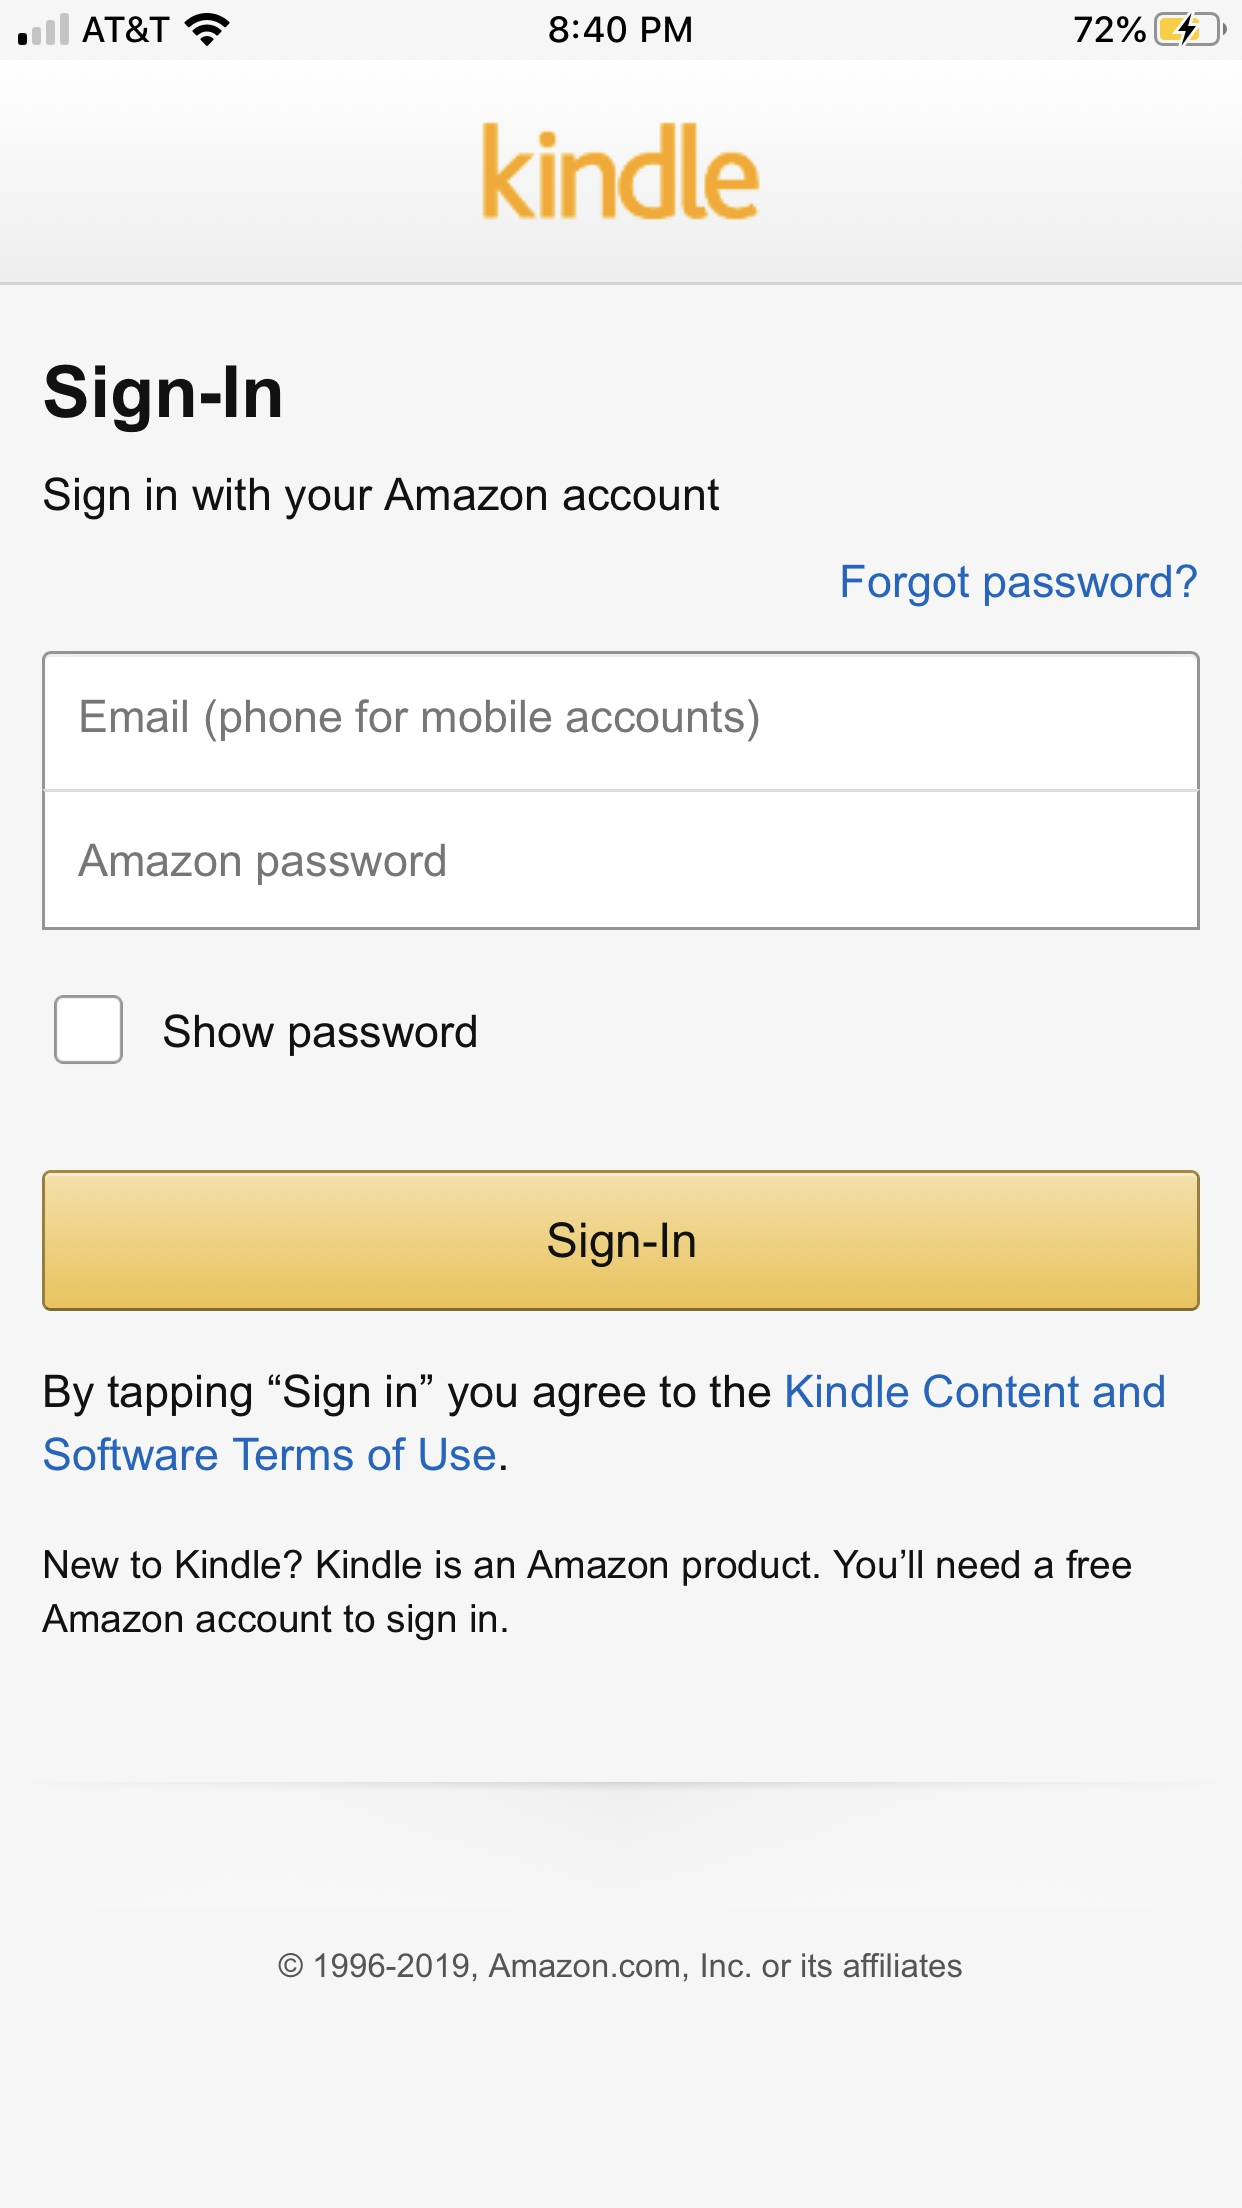CheckedTextView: (55, 995, 478, 1065)
EditText: (42, 652, 1200, 793), (42, 790, 1200, 931)
Text: (44, 1374, 1165, 1473), (42, 1548, 1131, 1641), (82, 699, 760, 743), (44, 478, 720, 522), (482, 121, 761, 221), (278, 1952, 963, 1984), (45, 364, 282, 434), (842, 564, 1198, 608), (77, 843, 446, 886), (165, 1015, 478, 1057)
TextButton: (42, 1171, 1201, 1312)
UpperTaskBar: (2, 2, 1242, 61)
